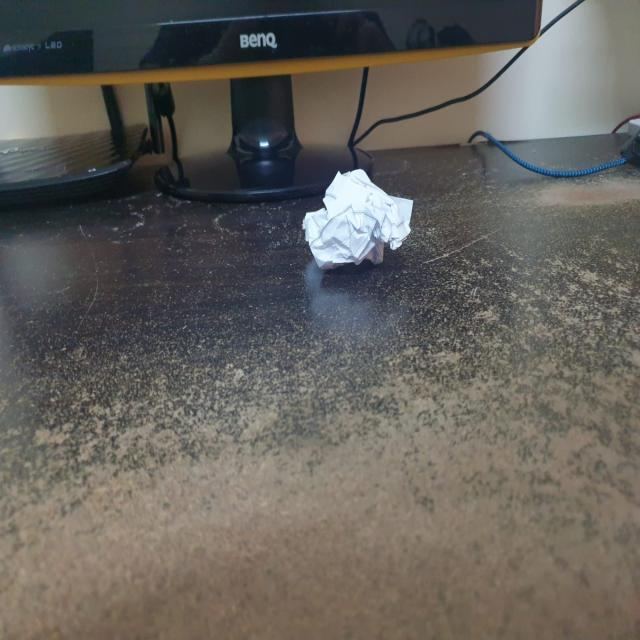Paper: (301, 168, 414, 267)
